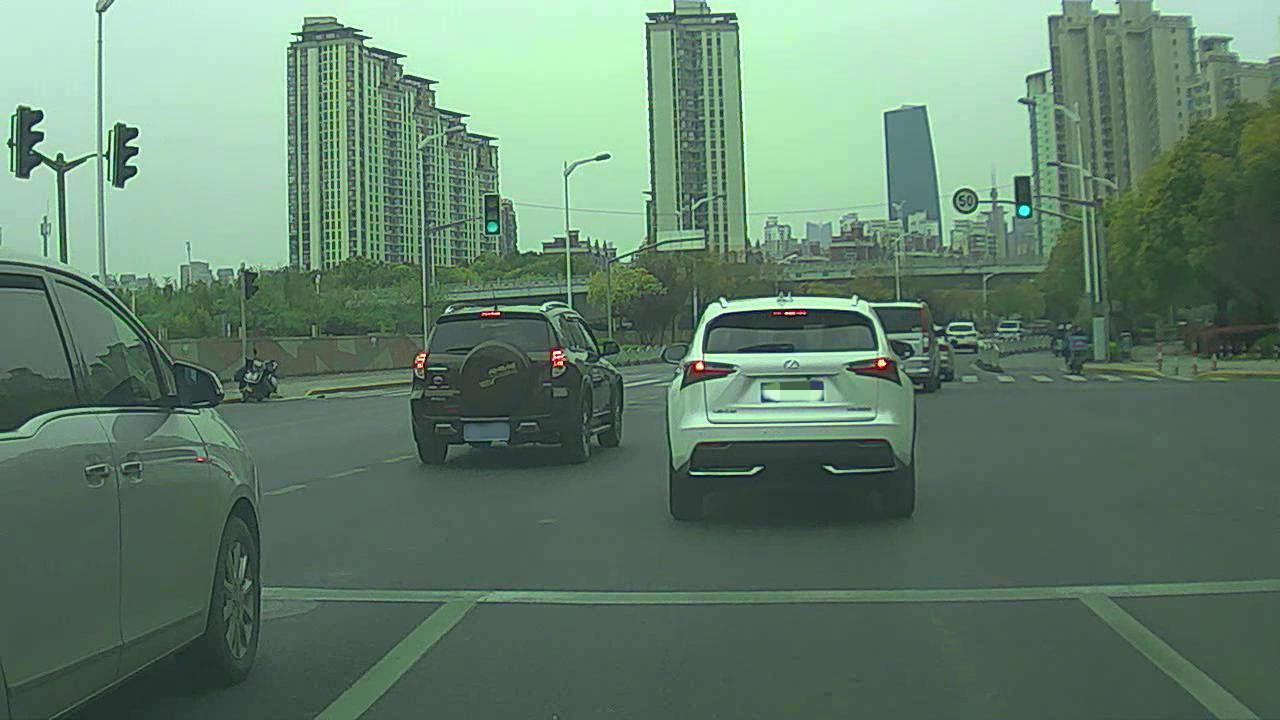traffic_light: (483, 194, 504, 238), (1015, 174, 1034, 217)
